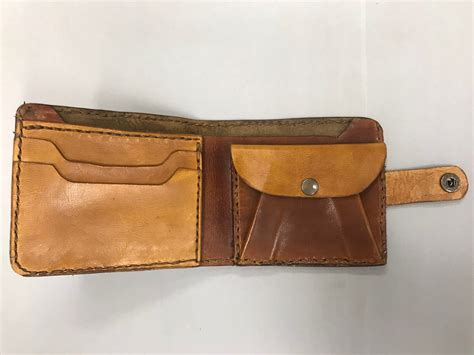cuero: (8, 101, 468, 277)
